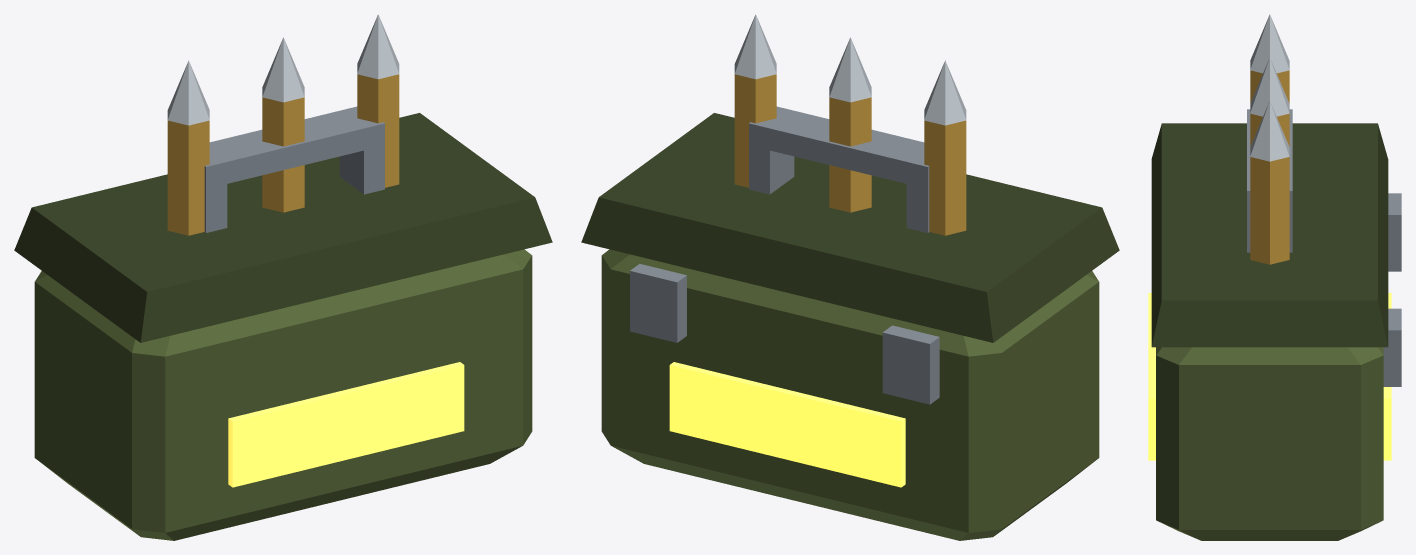
Rendered from pickup_ammo.glb.
The picture shows the model from 3 angles, left to right: view 1: azimuth 30°, elevation 25°; view 2: azimuth 150°, elevation 25°; view 3: azimuth 270°, elevation 25°; orthographic projection. The views are drawn at different scales.
Parts seen in each view (by area): view 1: Body; view 2: Body; view 3: Body.
Boxes of the visible parts, bbox=[...] form: Body: bbox=[14, 14, 552, 540]; Body: bbox=[581, 14, 1119, 540]; Body: bbox=[1148, 14, 1401, 540].
Size of the model in its own units: 0.3914 by 0.39 by 0.223.
